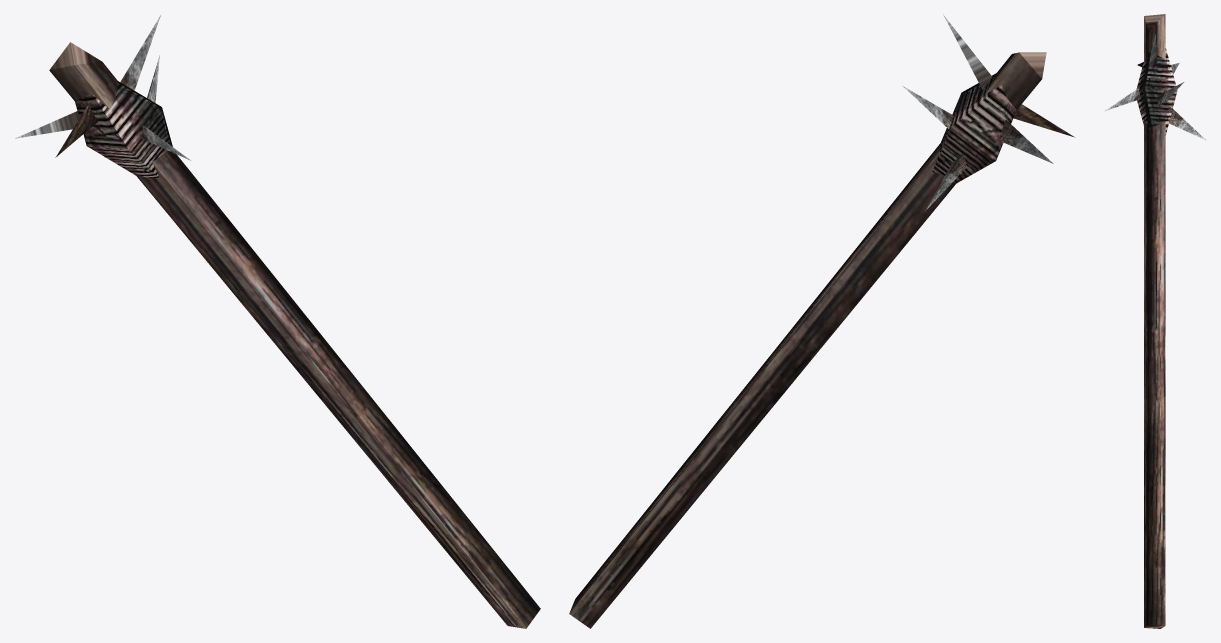
The model's file is ITMW_012_1H_NAILMACE_01.glb.
The picture shows the model from 3 angles, left to right: view 1: azimuth 30°, elevation 25°; view 2: azimuth 150°, elevation 25°; view 3: azimuth 270°, elevation 25°; orthographic projection. The views are drawn at different scales.
Visible parts, largest first — view 1: ITMW_012_1H_NAILMACE_01; view 2: ITMW_012_1H_NAILMACE_01; view 3: ITMW_012_1H_NAILMACE_01.
Boxes of the visible parts, x1,y1,x2,y2 form: ITMW_012_1H_NAILMACE_01: (15,15,540,628); ITMW_012_1H_NAILMACE_01: (569,14,1074,628); ITMW_012_1H_NAILMACE_01: (1105,14,1205,628).
Size of the model in its own units: 0.5392 by 0.7161 by 0.1391.
Materials: 1 (1 with a texture image).
